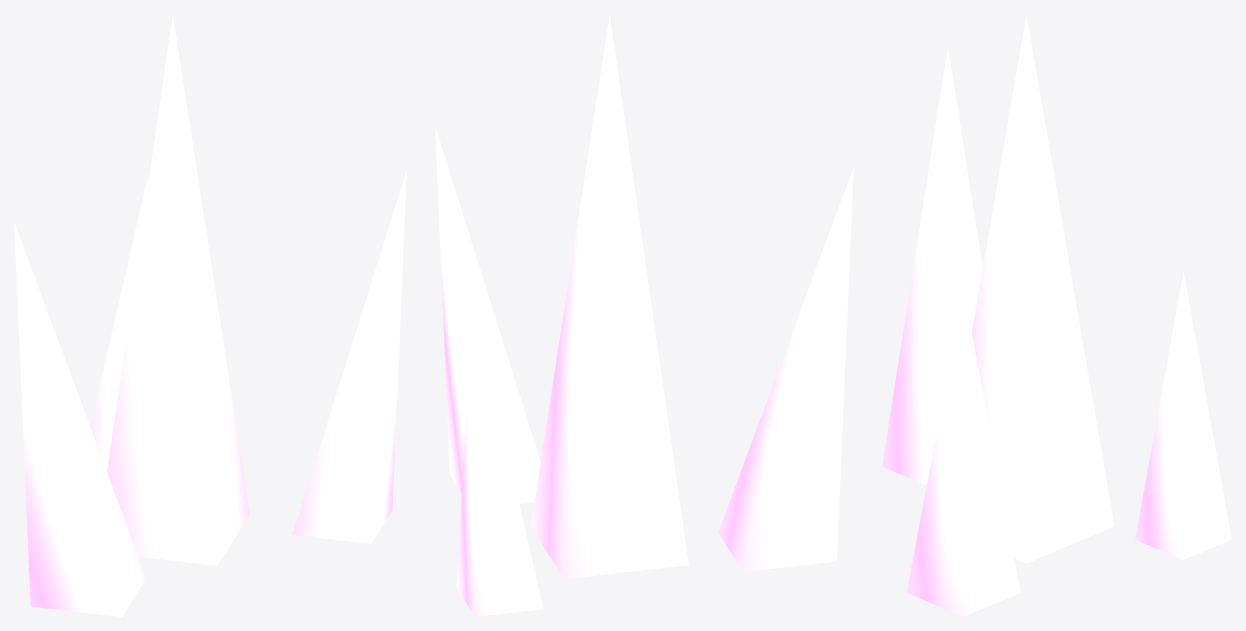
Rendered from SM_cv_crystal_violet.glb.
3 views of the same model, side by side, from view 1: azimuth 30°, elevation 25°; view 2: azimuth 150°, elevation 25°; view 3: azimuth 270°, elevation 25° (orthographic). The views are drawn at different scales.
Visible parts, largest first — view 1: SM_cv_crystal_violet; view 2: SM_cv_crystal_violet; view 3: SM_cv_crystal_violet.
Boxes of the visible parts, x1,y1,x2,y2 form: SM_cv_crystal_violet: [14, 14, 406, 616]; SM_cv_crystal_violet: [435, 14, 853, 616]; SM_cv_crystal_violet: [882, 14, 1231, 616].
Size of the model in its own units: 1.45 by 1.8 by 1.11.
